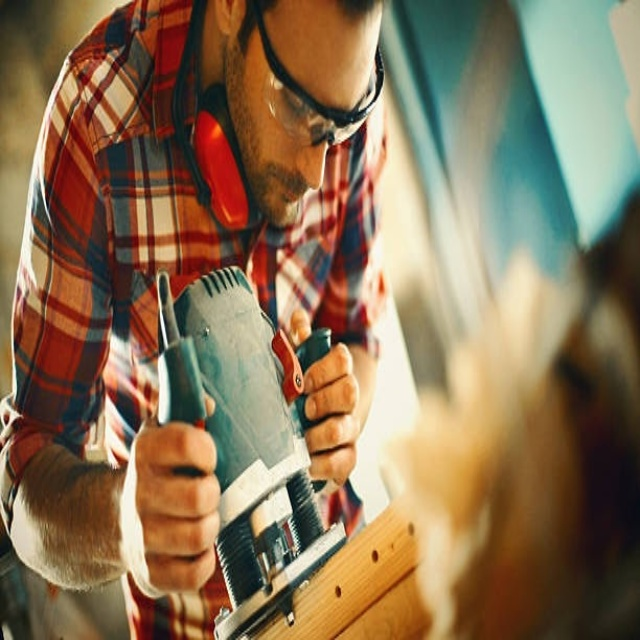Gafas: (246, 0, 383, 147)
Sin_guantes: (125, 407, 220, 600), (285, 308, 361, 491)
Sin_mascara: (260, 156, 319, 238)
